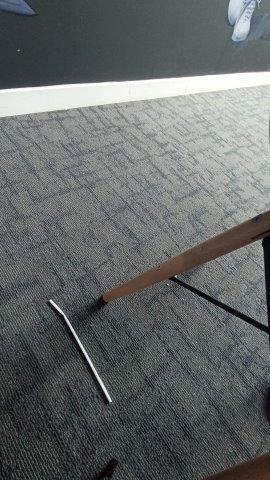sedotan: (49, 300, 112, 403)
